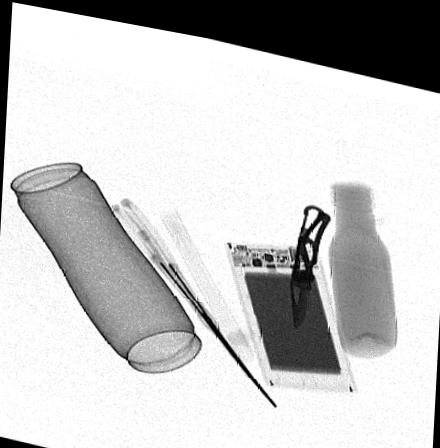Knife: (288, 193, 331, 316)
Powerbank: (225, 233, 357, 379)
Scissors: (109, 191, 278, 399)
